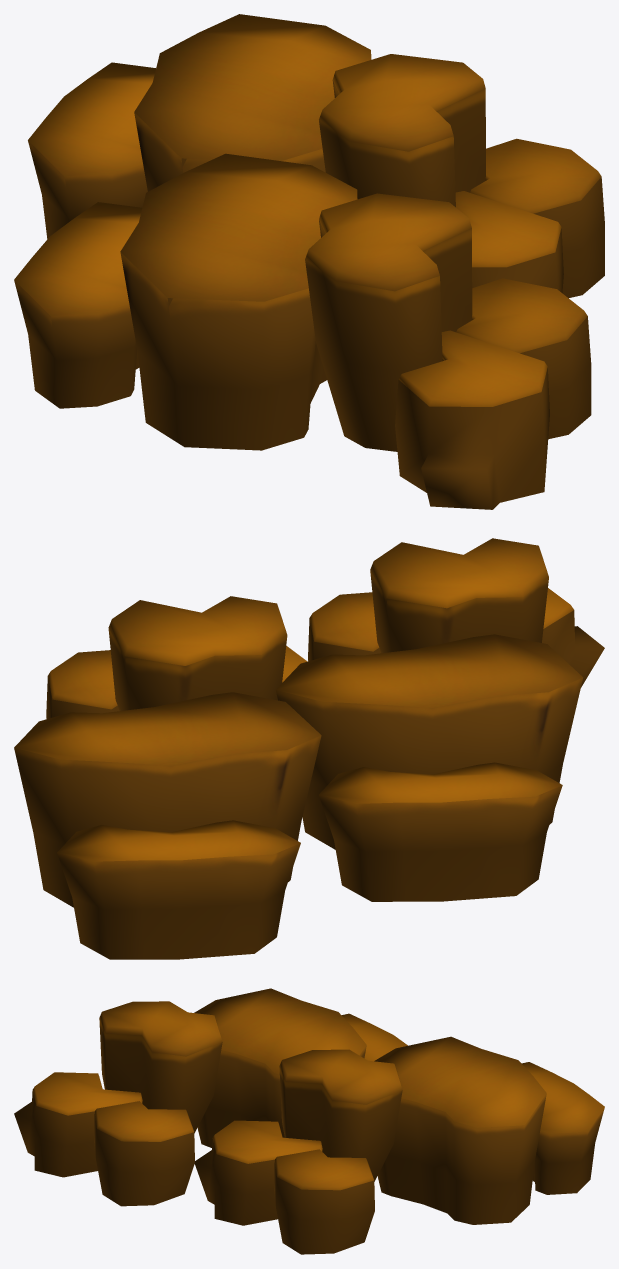
File: Mountain03.fbx
The picture shows the model from 3 angles, top to bottom: view 1: azimuth 30°, elevation 25°; view 2: azimuth 150°, elevation 25°; view 3: azimuth 270°, elevation 25°; orthographic projection. The views are drawn at different scales.
Visible parts, largest first — view 1: Rock.001, Rock.002; view 2: Rock.001, Rock.002; view 3: Rock.002, Rock.001.
Boxes of the visible parts, <box> form: Rock.001: <box>14,153,591,509</box>; Rock.002: <box>28,14,604,298</box>; Rock.001: <box>276,538,604,901</box>; Rock.002: <box>14,596,321,959</box>; Rock.002: <box>194,1036,604,1254</box>; Rock.001: <box>14,988,407,1206</box>.
Size of the model in its own units: 230 by 85.68 by 329.
